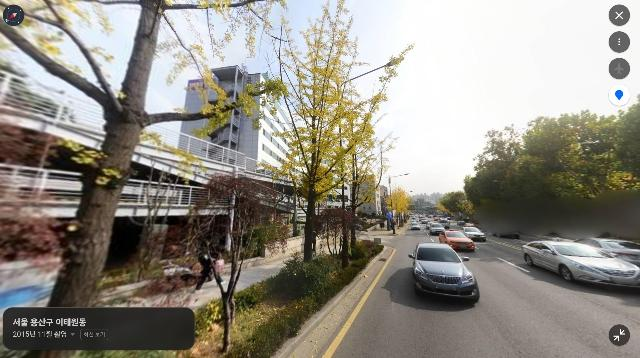ginkgo: (0, 0, 287, 313), (261, 0, 415, 265), (332, 77, 395, 268), (384, 184, 412, 234)
other: (519, 108, 640, 223)
